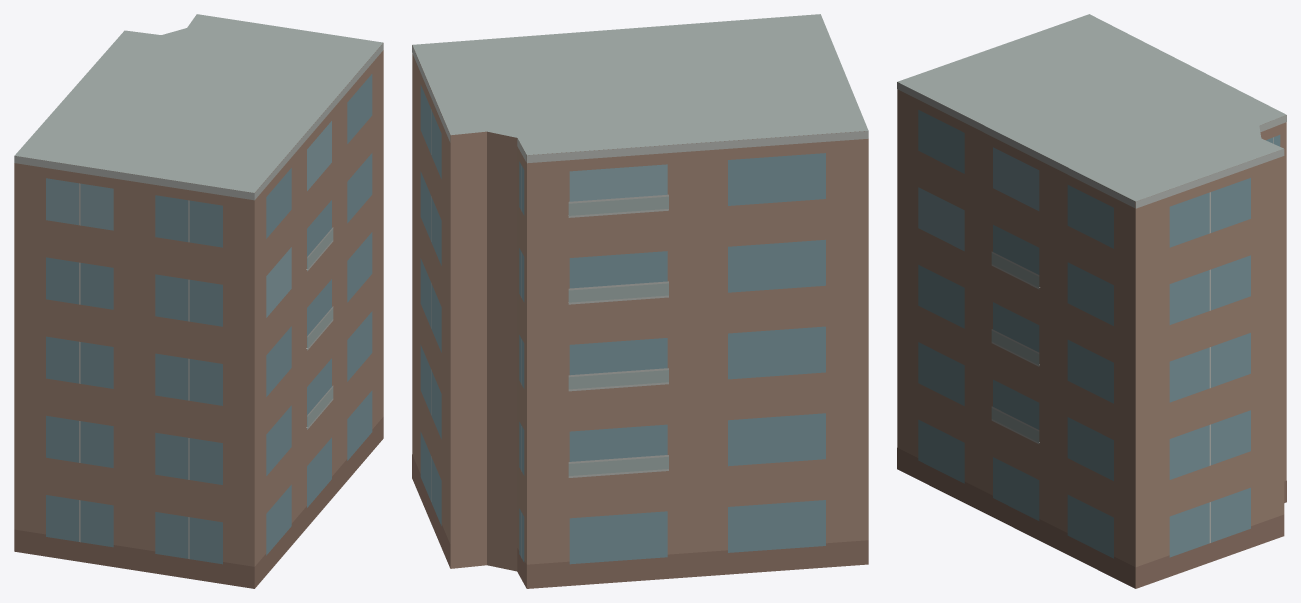
The model's file is survey-upis-33005332.glb.
The picture shows the model from 3 angles, left to right: view 1: azimuth 30°, elevation 25°; view 2: azimuth 150°, elevation 25°; view 3: azimuth 270°, elevation 25°; orthographic projection. The views are drawn at different scales.
Parts seen in each view (by area): view 1: survey-upis-33005332.tmp; view 2: survey-upis-33005332.tmp; view 3: survey-upis-33005332.tmp.
Part boxes in pixels (x1,y1,x2,y2): survey-upis-33005332.tmp: (14, 14, 383, 588); survey-upis-33005332.tmp: (412, 14, 868, 588); survey-upis-33005332.tmp: (897, 14, 1286, 588).
Bounding box in the file's own units: 13.72 × 13.2 × 12.04.
